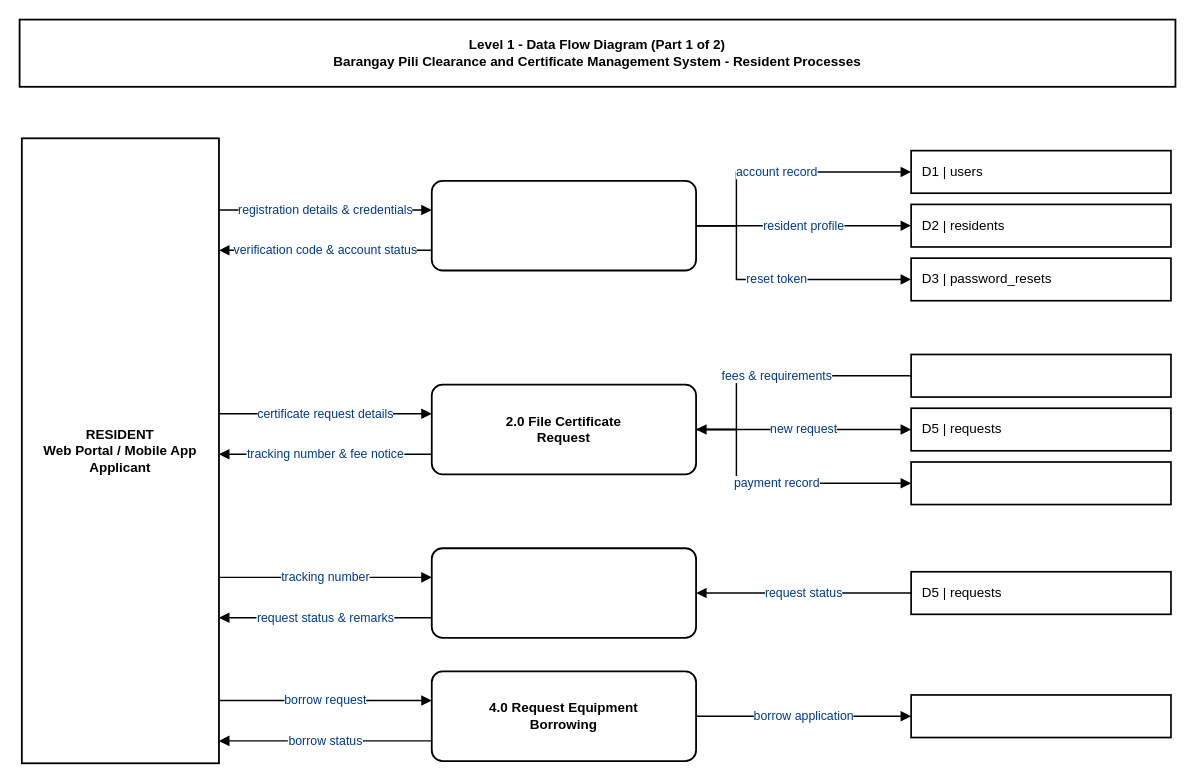
Some shapes in this 1196 by 784 pixel diagram are drawn without their labels. Here are the shapes that lost their labels. From the top down, the box of each, then its label:
(430, 179, 696, 271): 1.0 Register & Authenticate Residents
(910, 353, 1171, 397): D4 | certificates
(910, 461, 1171, 505): D6 | payments
(430, 547, 696, 638): 3.0 Track Request Status
(910, 694, 1171, 738): D7 | borrow_requests
